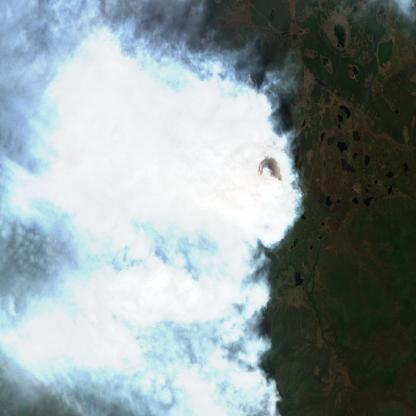fire: (181, 58, 296, 236)
